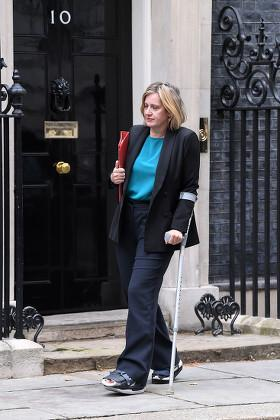crutches: (100, 83, 202, 394)
